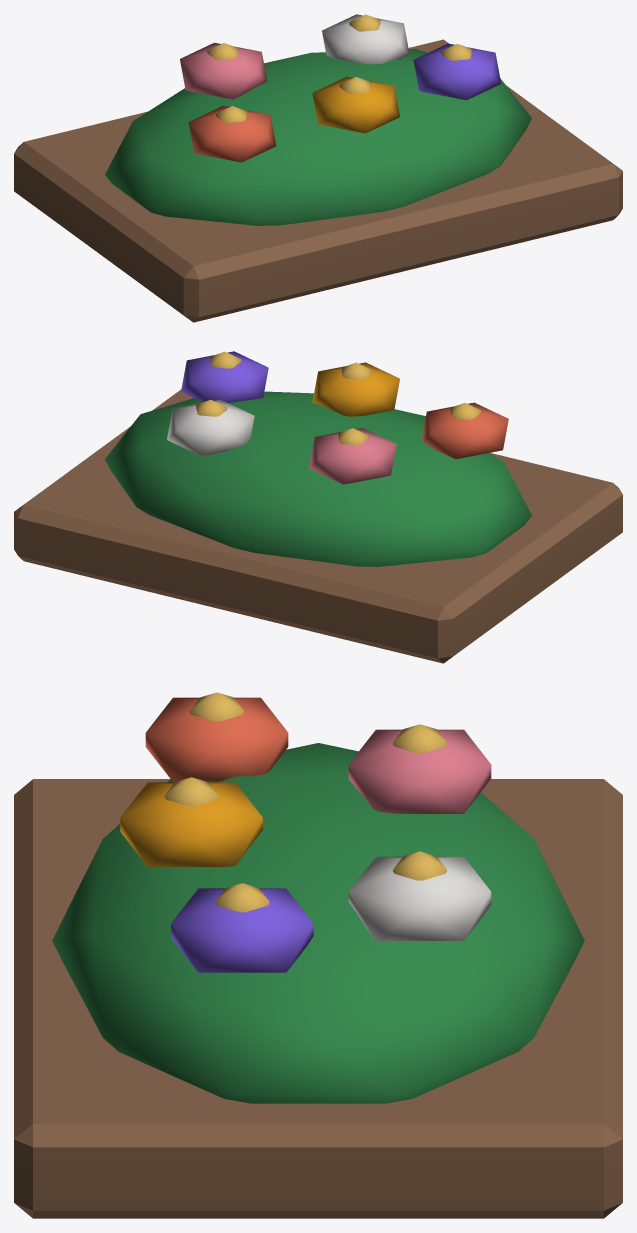
File: flower-bed.glb
3 renders of one model, top to bottom at view 1: azimuth 30°, elevation 25°; view 2: azimuth 150°, elevation 25°; view 3: azimuth 270°, elevation 25°, orthographic. The views are drawn at different scales.
Parts seen in each view (by area): view 1: flower-bed; view 2: flower-bed; view 3: flower-bed.
Boxes of the visible parts, x1,y1,x2,y2 form: flower-bed: [14, 14, 622, 322]; flower-bed: [14, 351, 622, 663]; flower-bed: [14, 692, 622, 1218].
Size of the model in its own units: 0.7 by 0.25 by 0.5.
